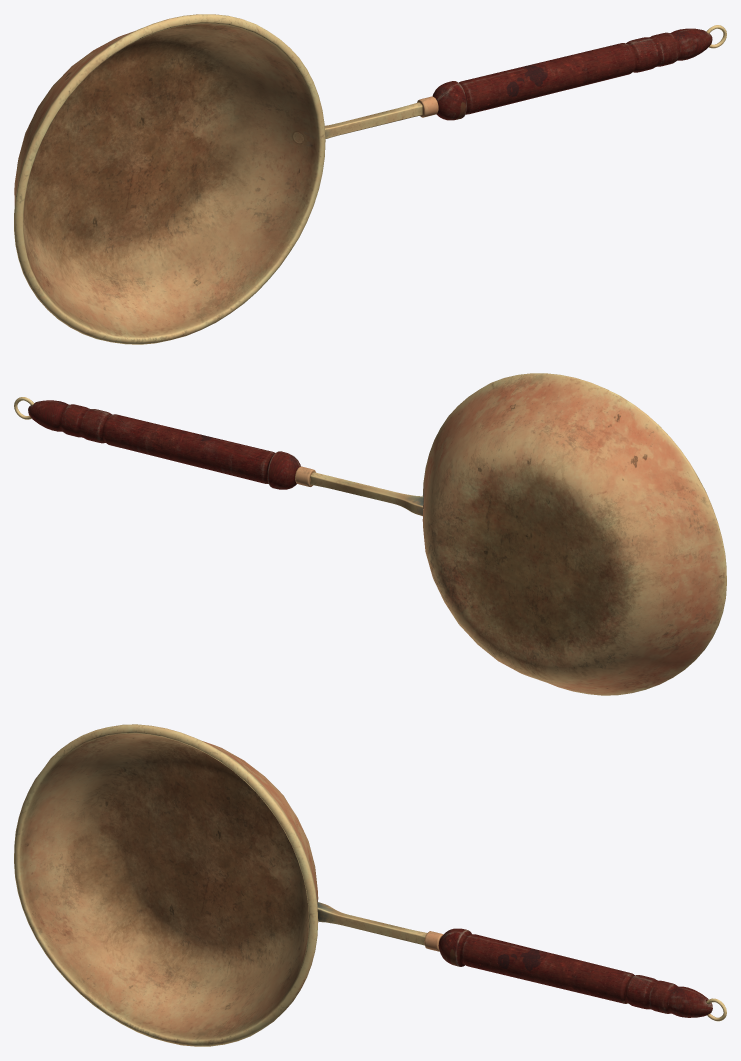
Rendered from brass_pan_01_1k.obj.
3 renders of one model, top to bottom at view 1: azimuth 30°, elevation 25°; view 2: azimuth 150°, elevation 25°; view 3: azimuth 330°, elevation 25°, orthographic. The views are drawn at different scales.
Parts seen in each view (by area): view 1: brass_pan_01_brass_pan_01; view 2: brass_pan_01_brass_pan_01; view 3: brass_pan_01_brass_pan_01.
Part boxes in pixels (x1=…): brass_pan_01_brass_pan_01: x1=14, y1=14, x2=726, y2=344; brass_pan_01_brass_pan_01: x1=14, y1=373, x2=726, y2=695; brass_pan_01_brass_pan_01: x1=14, y1=724, x2=726, y2=1046.
Bounding box in the file's own units: 0.4497 × 0.1913 × 0.0525.
1 material, 1 textured.
